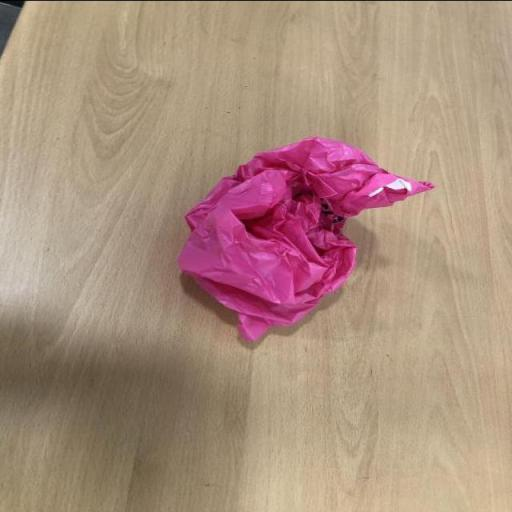plastic-bag: (177, 134, 435, 348)
